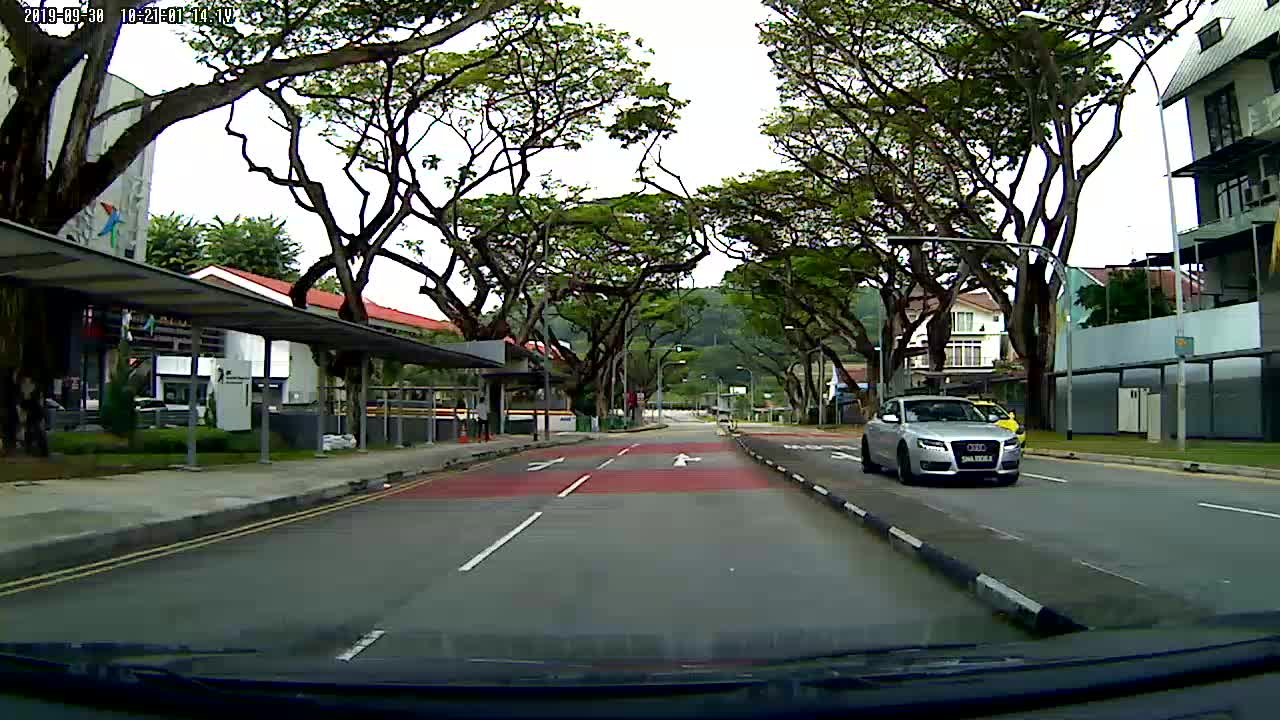car: (853, 394, 1026, 486)
